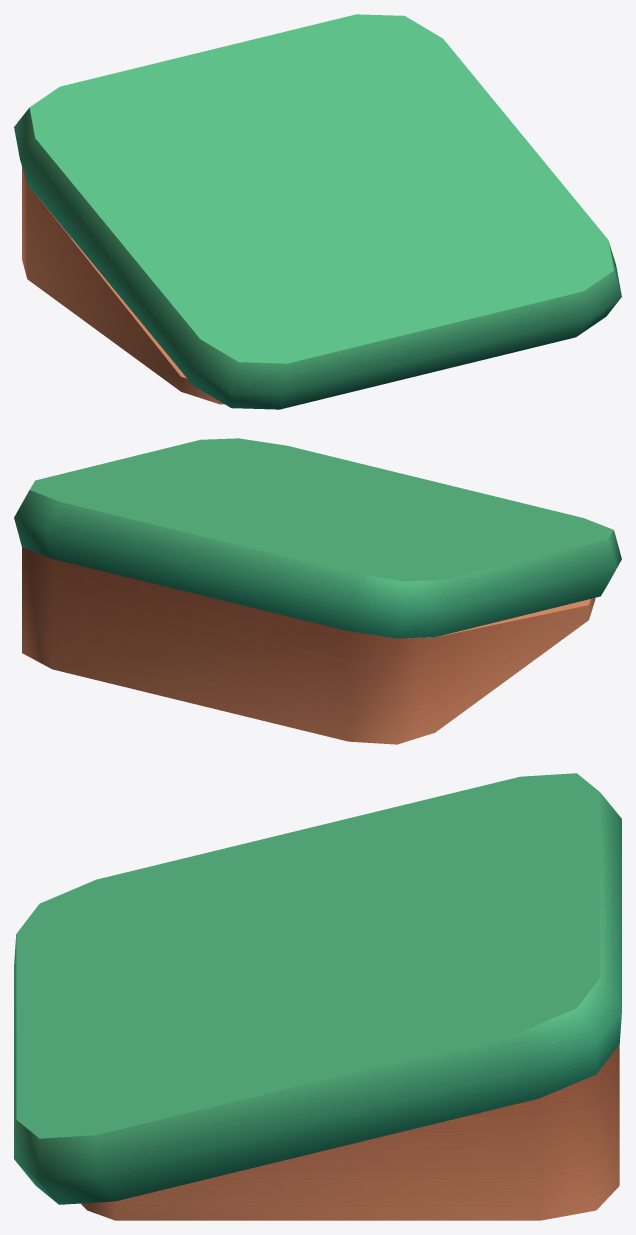
File: block-grass-large-slope.glb
3 views of the same model, one above another, from view 1: azimuth 30°, elevation 25°; view 2: azimuth 150°, elevation 25°; view 3: azimuth 270°, elevation 25° (orthographic). The views are drawn at different scales.
Parts seen in each view (by area): view 1: block-grass-large-slope; view 2: block-grass-large-slope; view 3: block-grass-large-slope.
Part boxes in pixels (<box>): block-grass-large-slope: <box>14,14,621,409</box>; block-grass-large-slope: <box>14,438,621,744</box>; block-grass-large-slope: <box>14,773,621,1220</box>.
Bounding box in the file's own units: 2.08 × 0.7591 × 2.01.
Materials: 1 (1 with a texture image).
